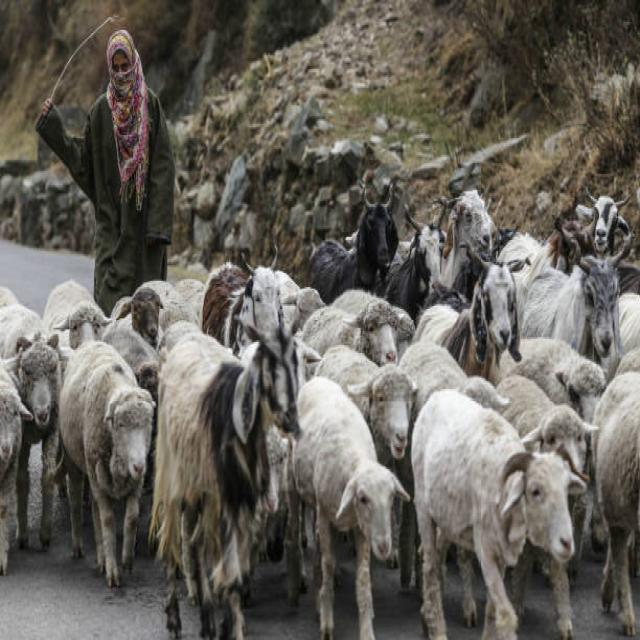civilian: (37, 30, 174, 312)
